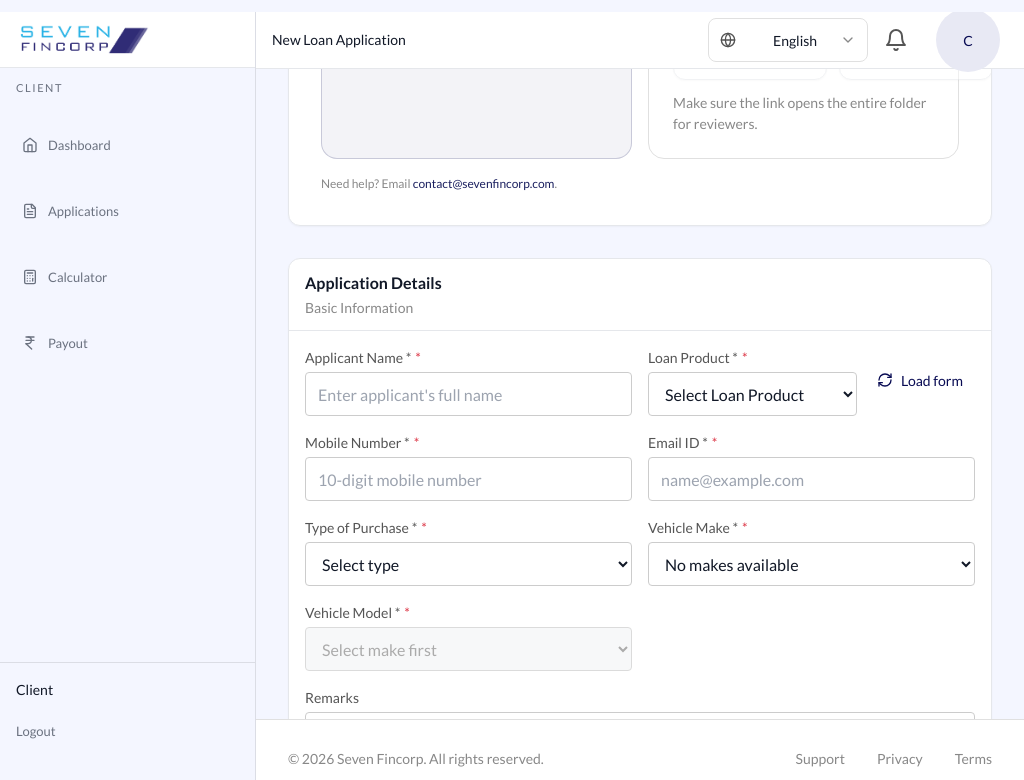
Test: NewApplication Page - P0 Tests › M2-FE-001: Dynamic Form Field Rendering › should render different field types correctly
(page scrolled)
Select "Business Loan" in the dropdown with test id "loan-product-select" at (752, 394), box left=648, top=372, right=857, bottom=416
(page scrolled)
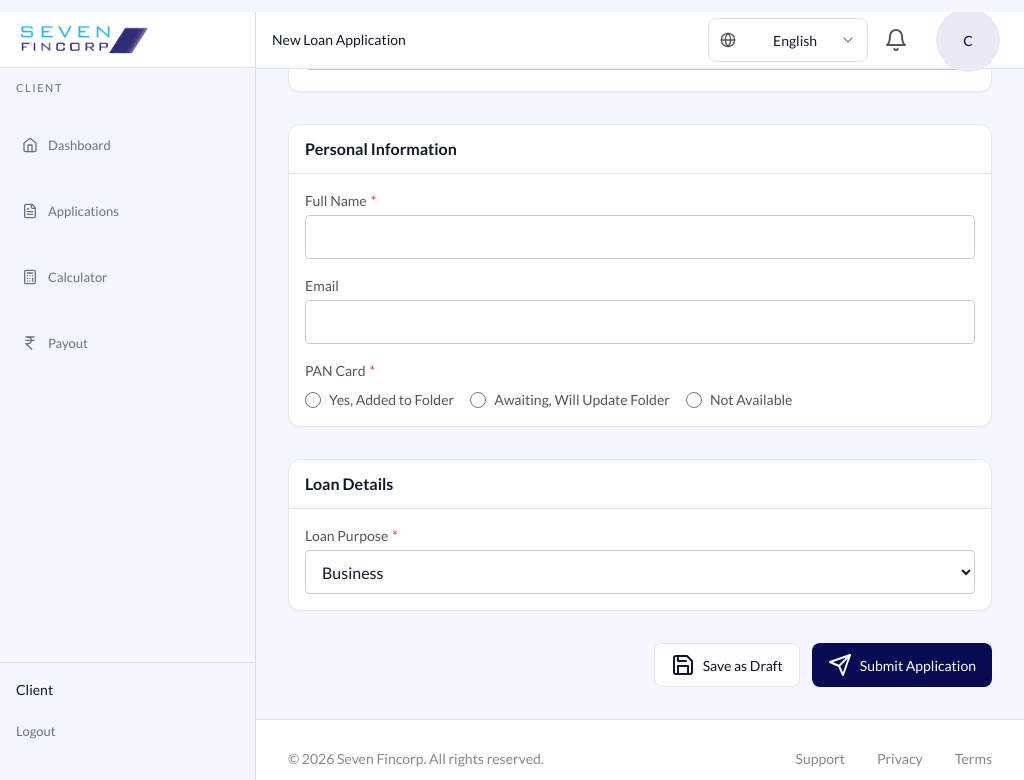
Expected: the text "Full Name*" is shown, left=305, top=192, right=376, bottom=209
Expected: the text "PAN Card*" is shown, left=305, top=362, right=375, bottom=379
Expected: the text "Loan Purpose*" is shown, left=305, top=527, right=398, bottom=544
